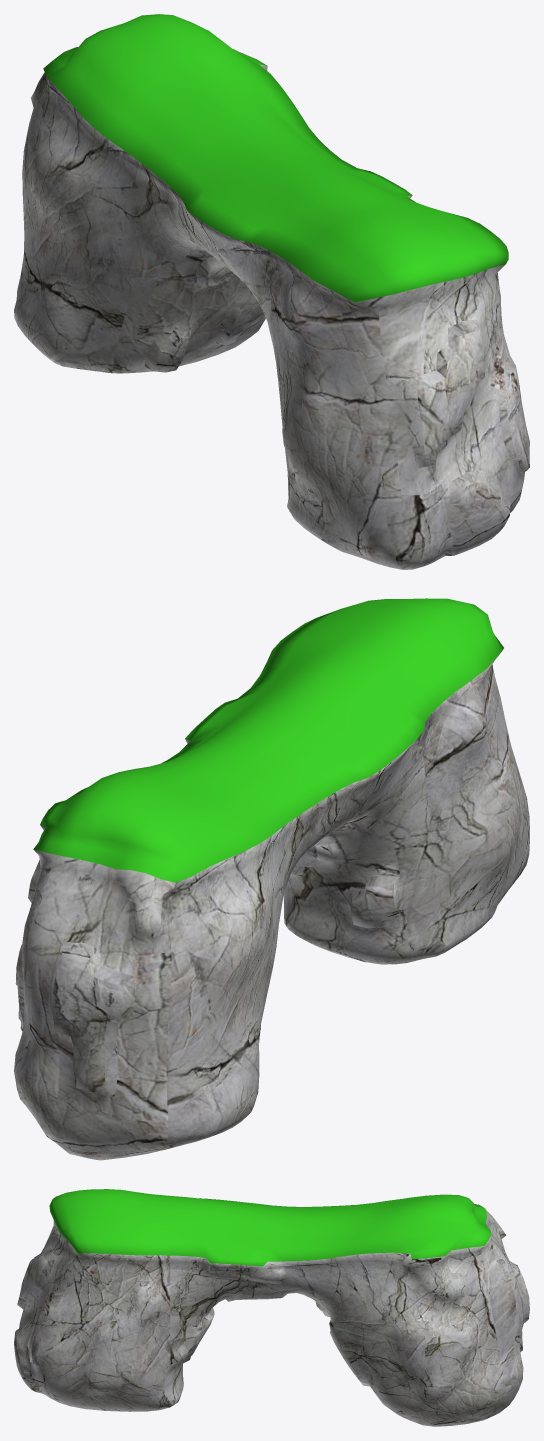
The model's file is SM_RockArch.FBX.
3 views of the same model, one above another, from view 1: azimuth 30°, elevation 25°; view 2: azimuth 150°, elevation 25°; view 3: azimuth 270°, elevation 25° (orthographic). The views are drawn at different scales.
Parts seen in each view (by area): view 1: Arch; view 2: Arch; view 3: Arch.
Boxes of the visible parts, x1,y1,x2,y2 form: Arch: (14, 14, 529, 569); Arch: (14, 598, 529, 1160); Arch: (14, 1189, 529, 1426).
Size of the model in its own units: 2148 by 3067 by 6487.
Materials: 2 (1 with a texture image).
